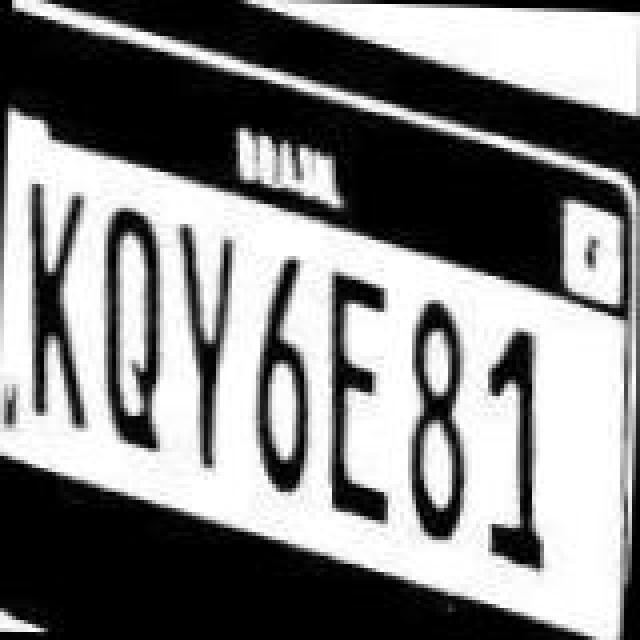1: (480, 322, 556, 574)
6: (252, 252, 316, 496)
8: (404, 290, 472, 542)
E: (316, 262, 396, 526)
K: (20, 172, 96, 432)
Q: (98, 206, 170, 454)
Y: (164, 218, 236, 478)
